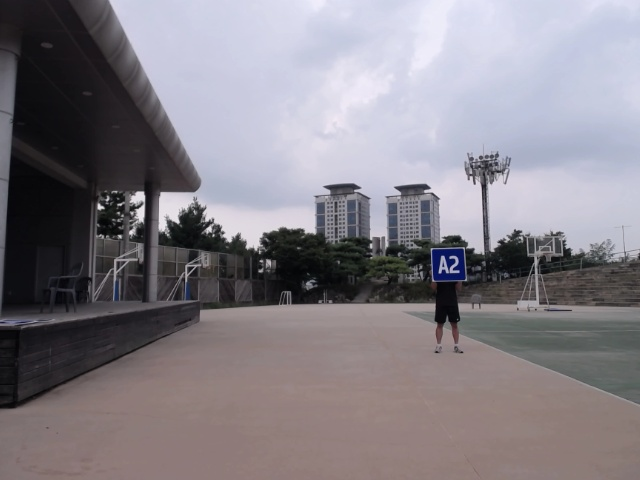delivery_a2: (431, 248, 466, 281)
